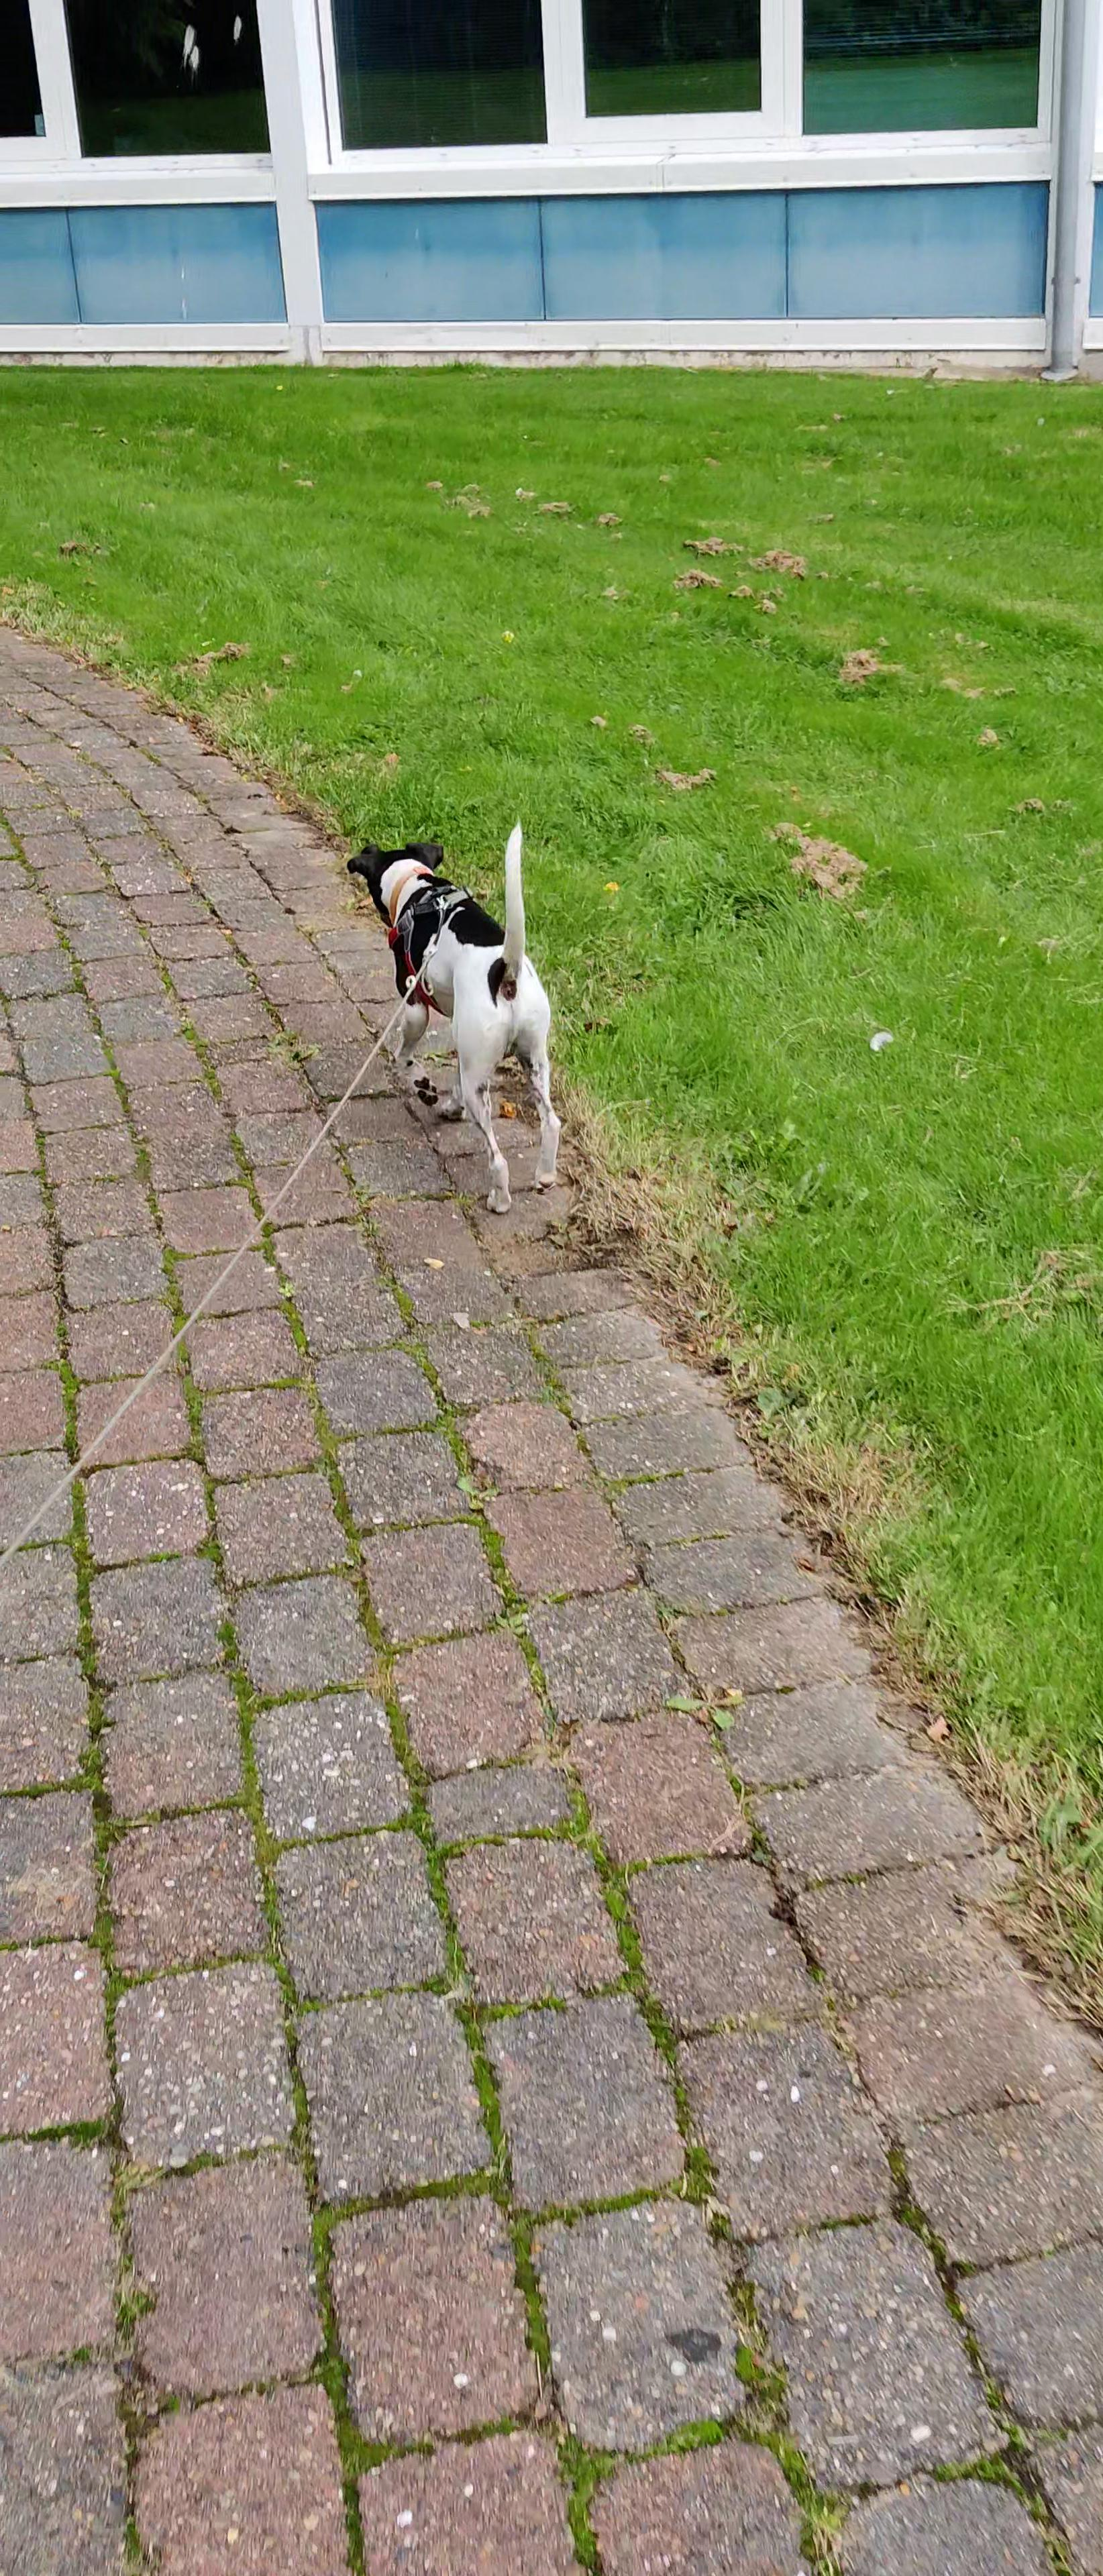Dog: (330, 792, 575, 1226)
